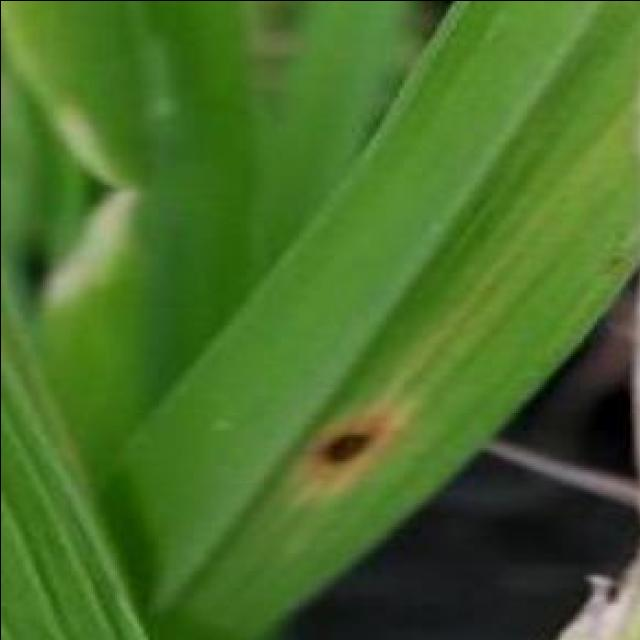Brown_Spot: (300, 409, 401, 474)
